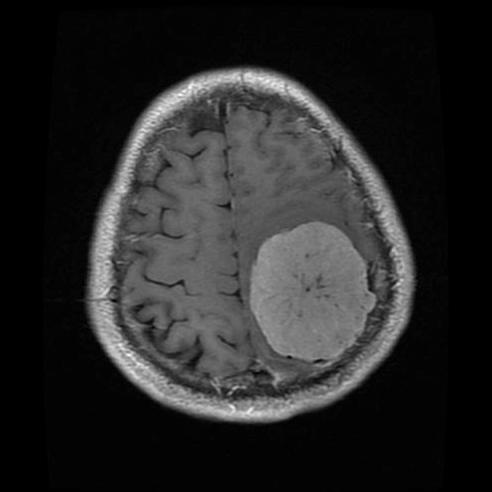Tumour-Meningioma: (238, 220, 371, 377)
